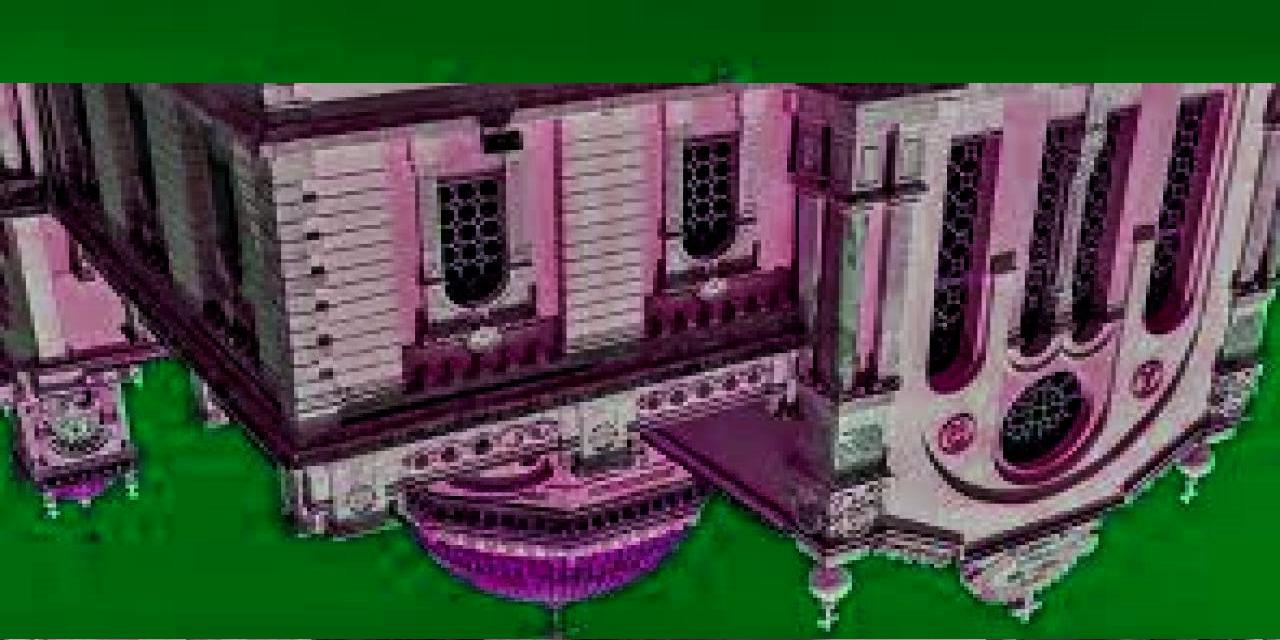Agios Minas: (1, 84, 1280, 640)
